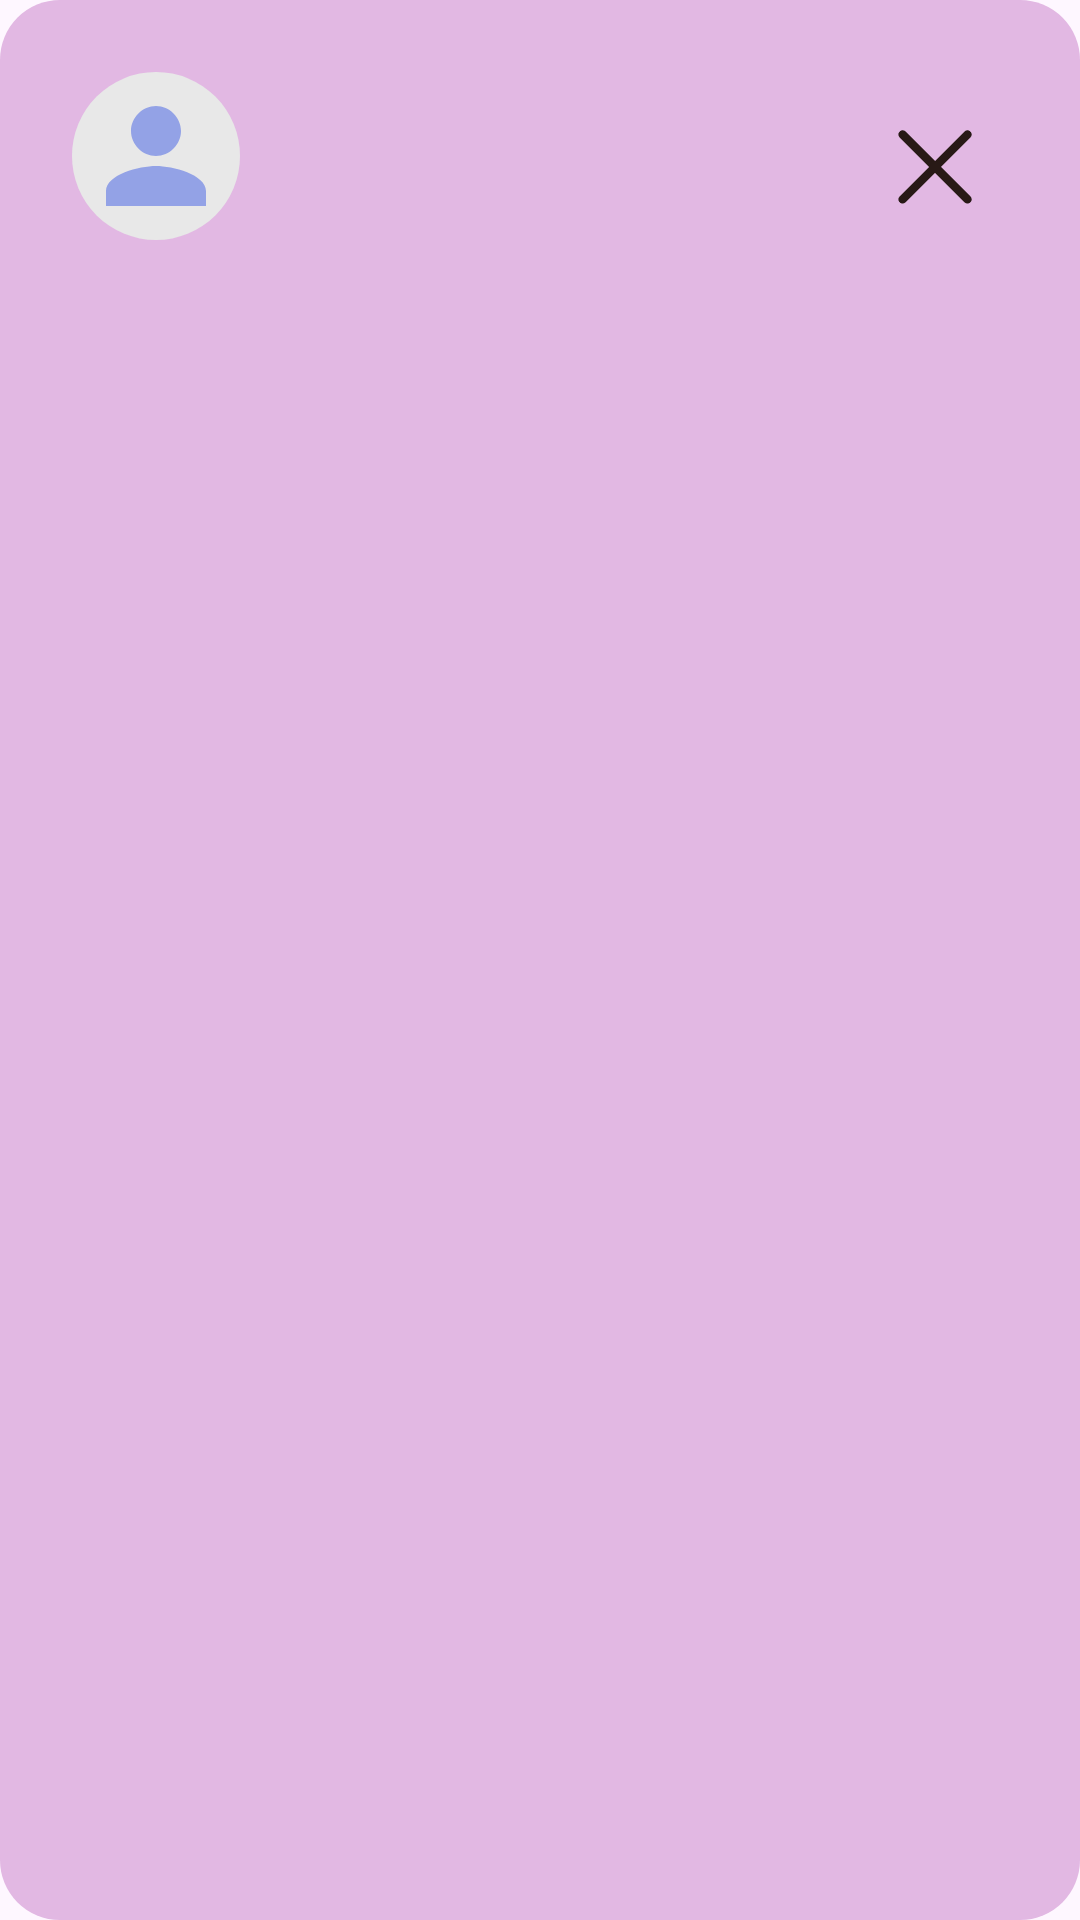

Screen size 1080px x 1920px. Icon name, then its center in pixels as [x,y]:
close: [935,167]
